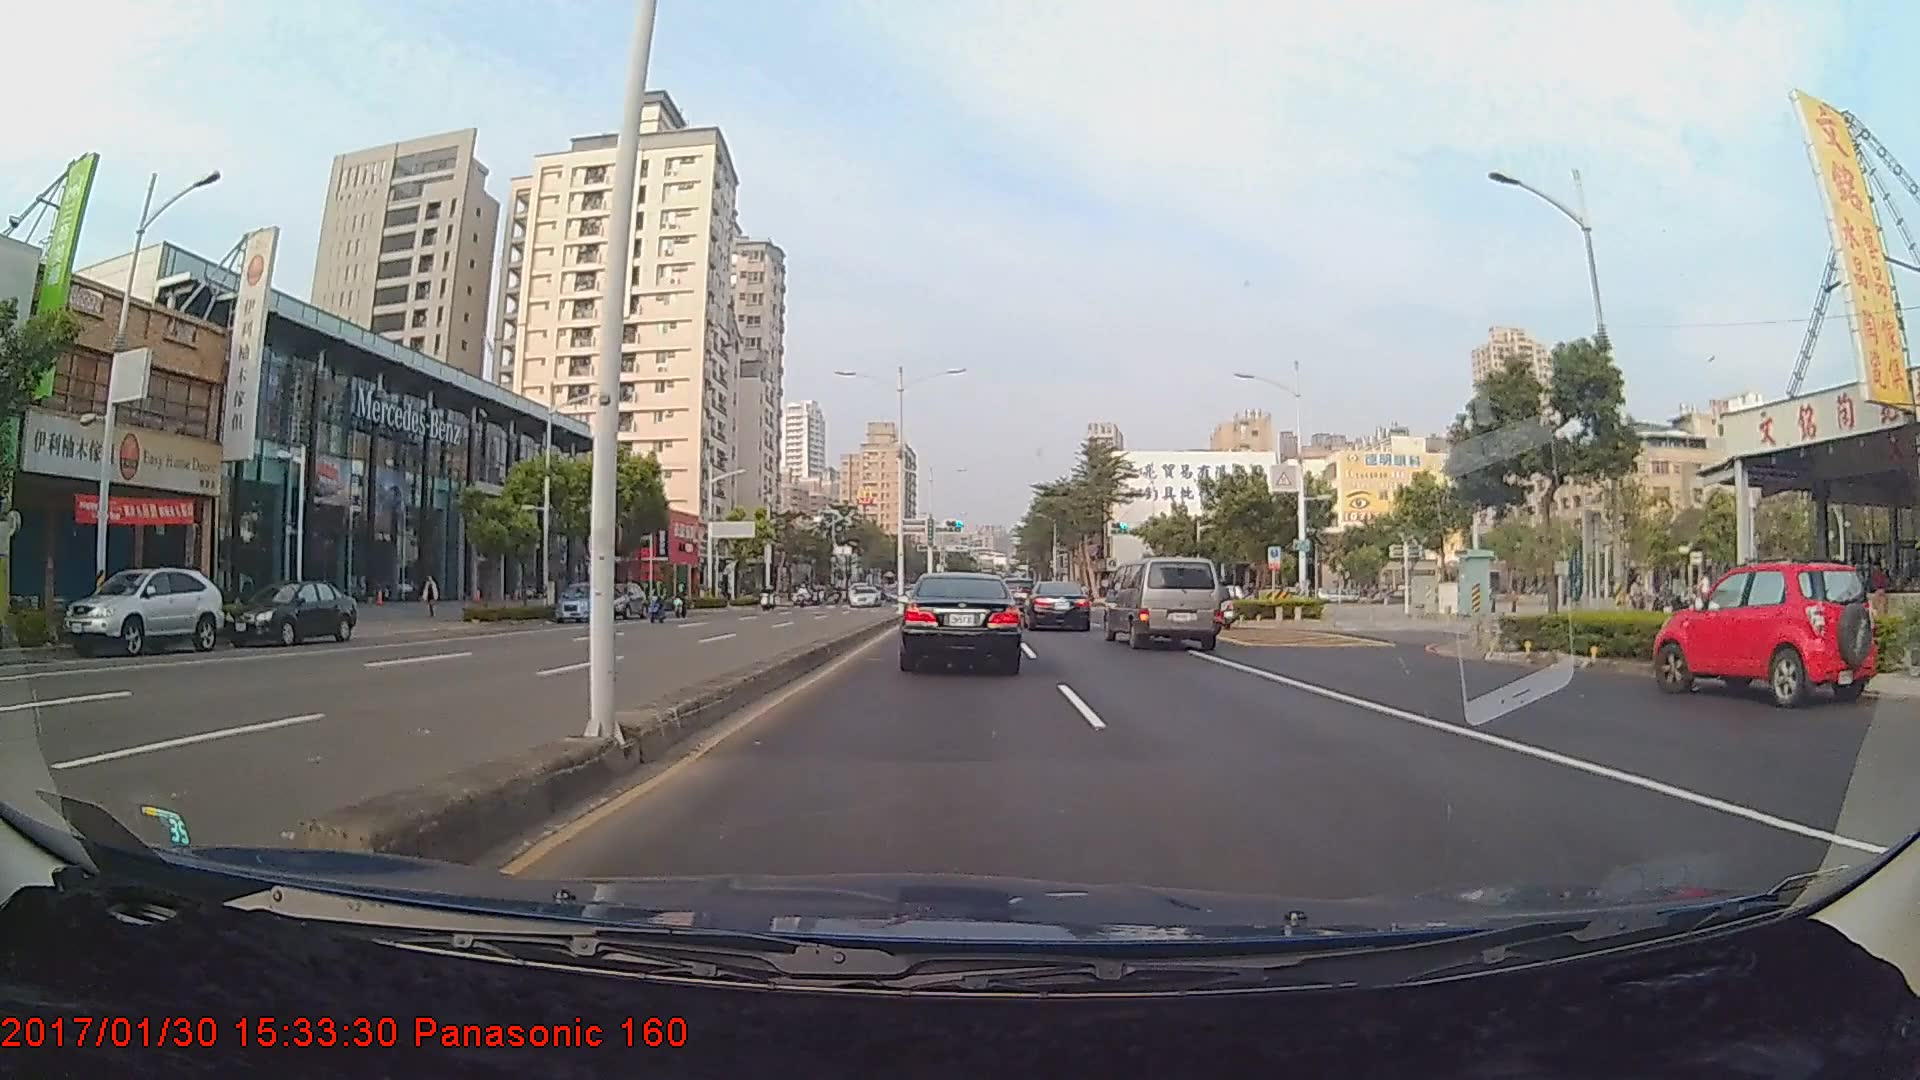pedestrian: (420, 574, 442, 622)
vehicle: (1647, 562, 1879, 709), (60, 564, 220, 656), (900, 570, 1020, 673), (1104, 556, 1220, 649), (223, 578, 358, 646), (1023, 579, 1093, 633), (553, 580, 612, 624), (599, 580, 648, 621), (849, 585, 882, 608)
